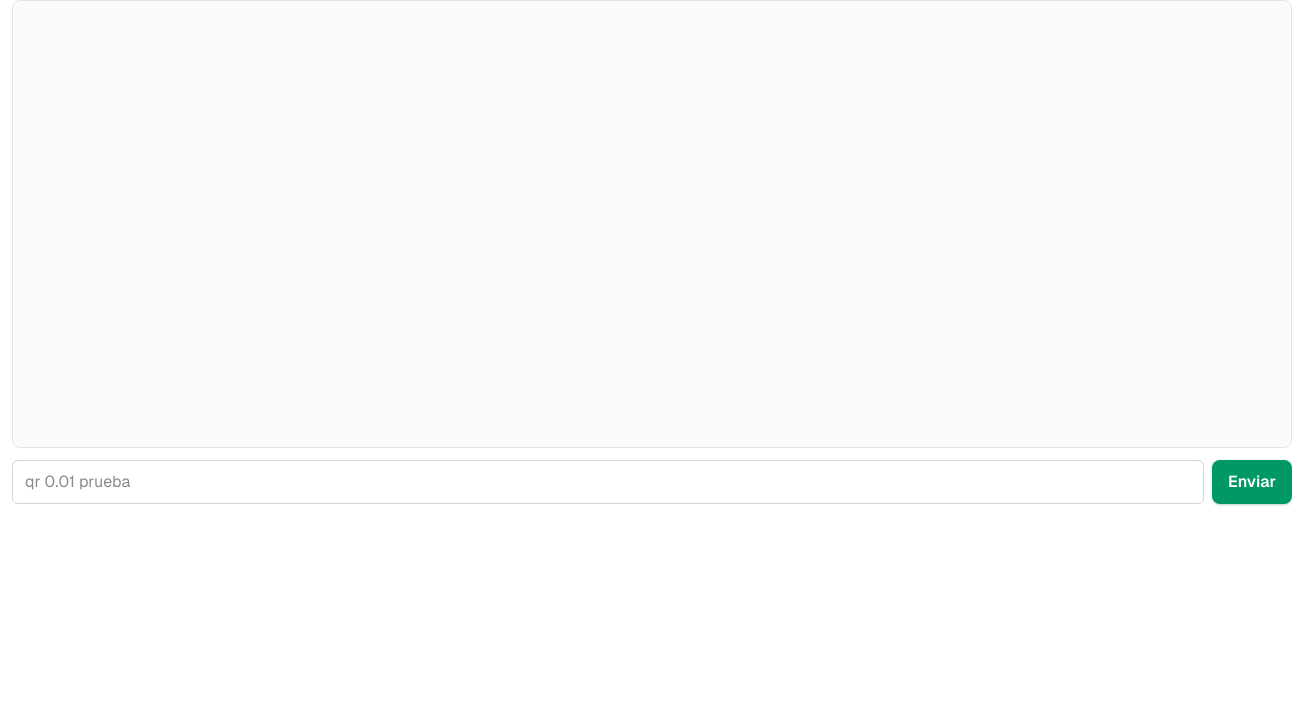
Test: DemoChat › un límite de la API se muestra como alerta
This screenshot has width=1304, height=720.
Type "hola" into the field named "Mensaje" at (608, 482), box top-left (12, 460), bottom-right (1204, 504)
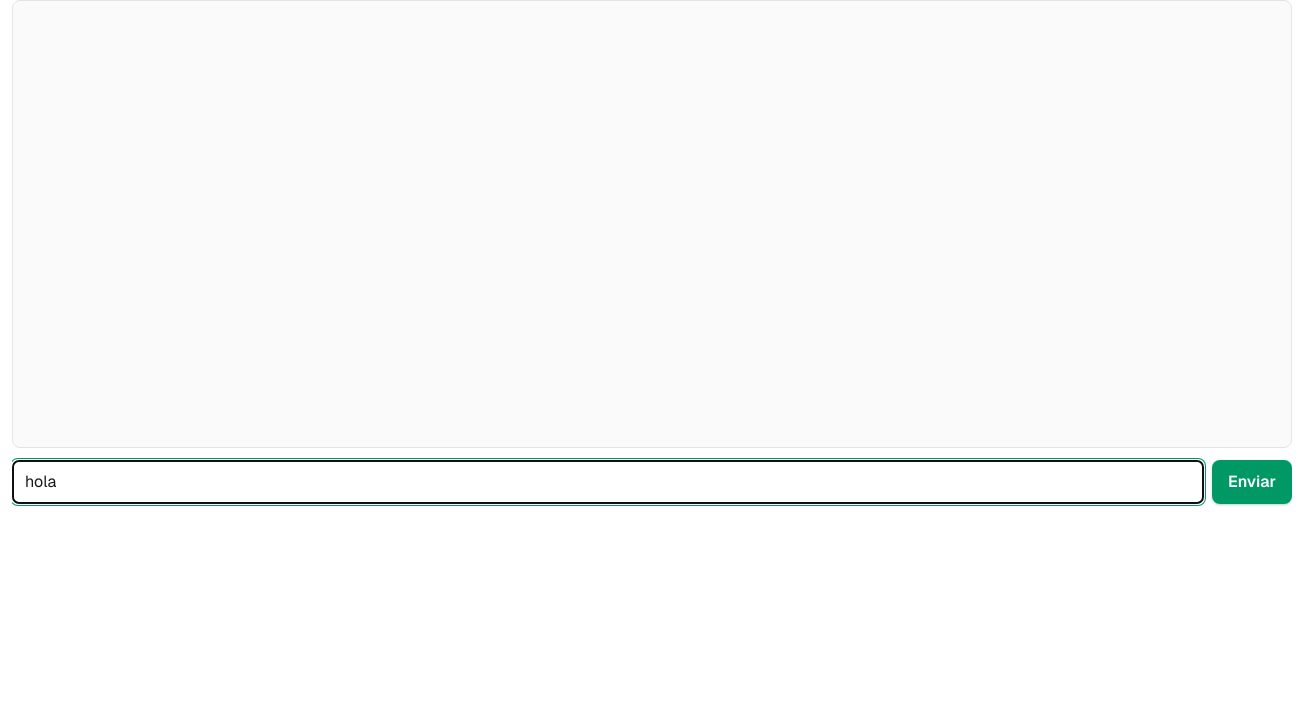
Click the button "Enviar" at (1252, 482), box top-left (1212, 460), bottom-right (1292, 504)
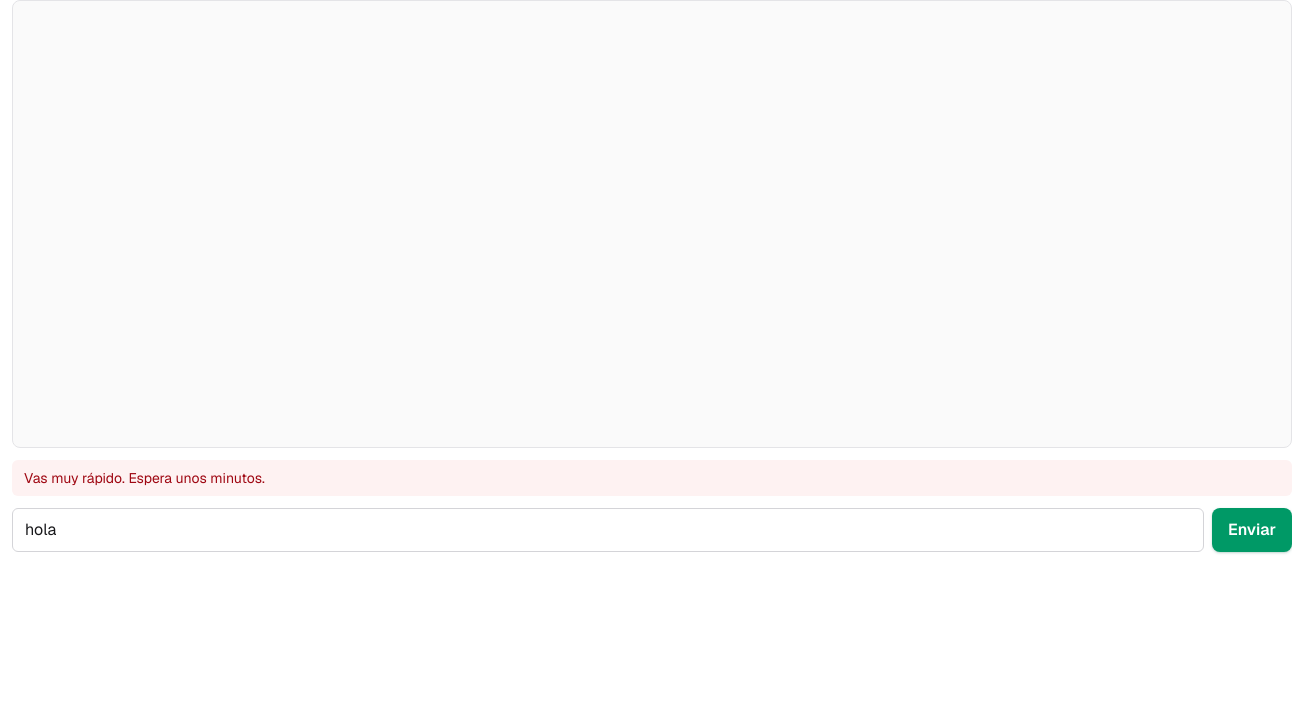
Expected: the message shows "Vas muy rápido", top-left (24, 469), bottom-right (265, 487)
